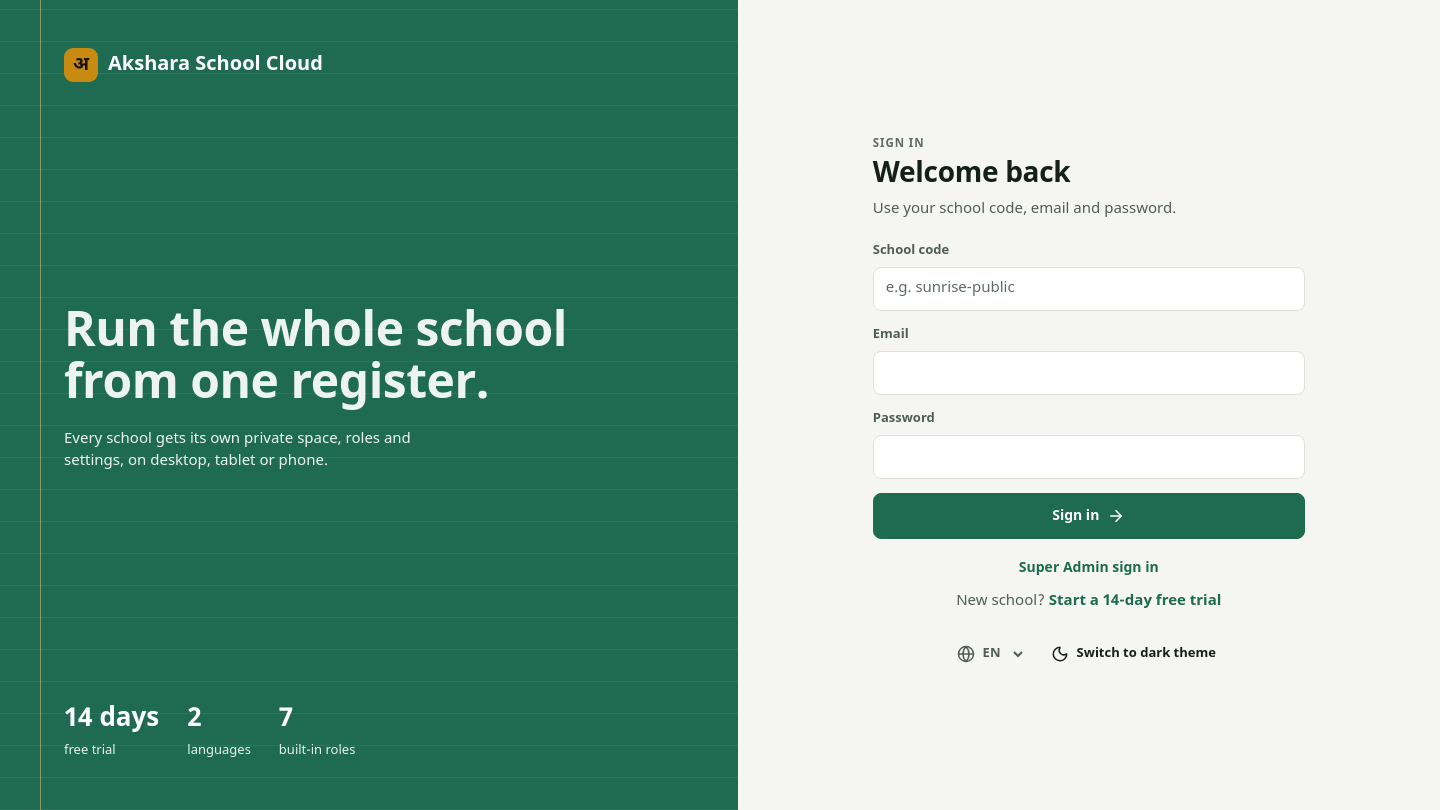
Test: LoginView › asks the user to wait on 429
The image size is (1440, 810).
Type "sunrise-public" into the field labelled "School code" at (1089, 289), box [873,267,1305,311]
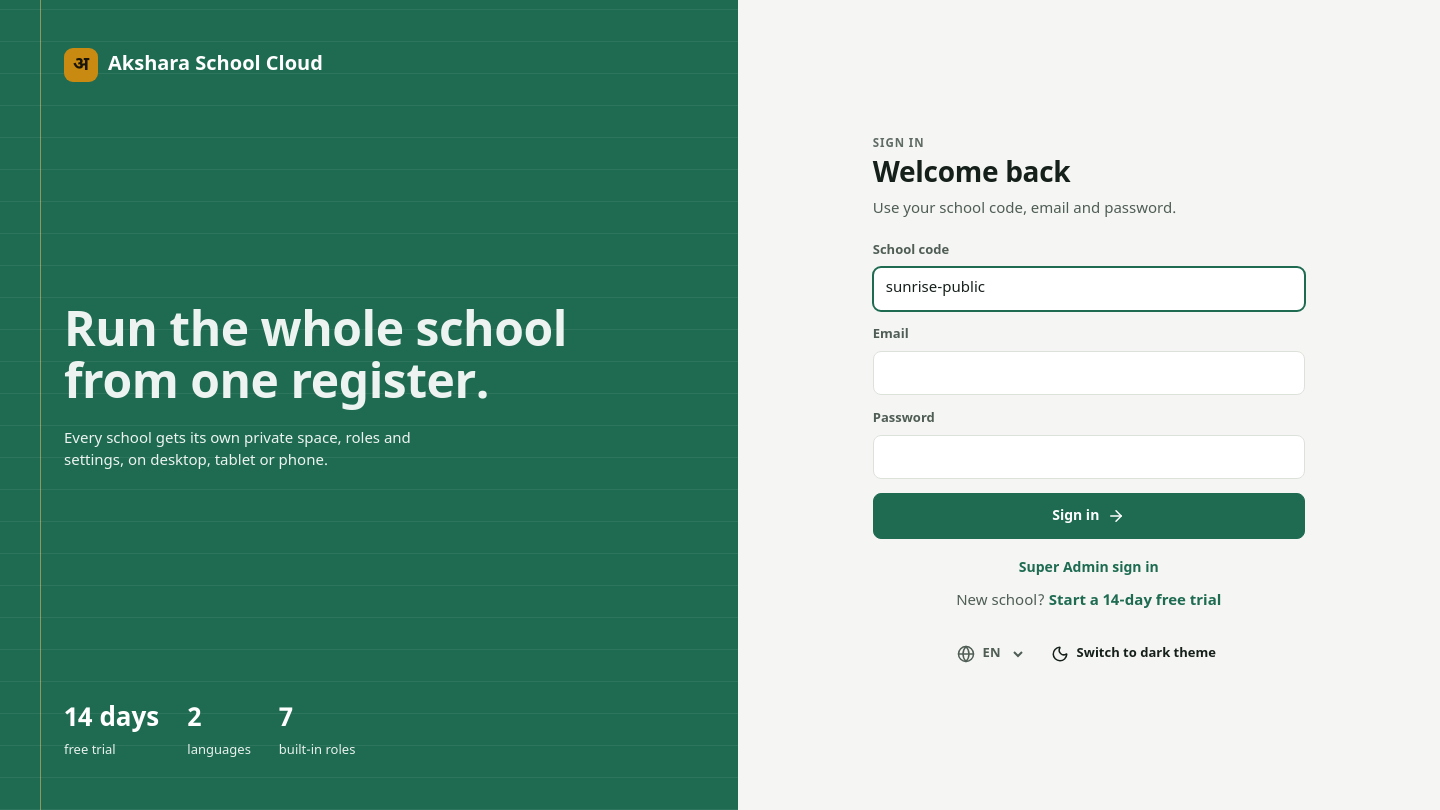
Type "fatima@school.edu" into the field labelled "Email" at (1089, 373), box [873,351,1305,395]
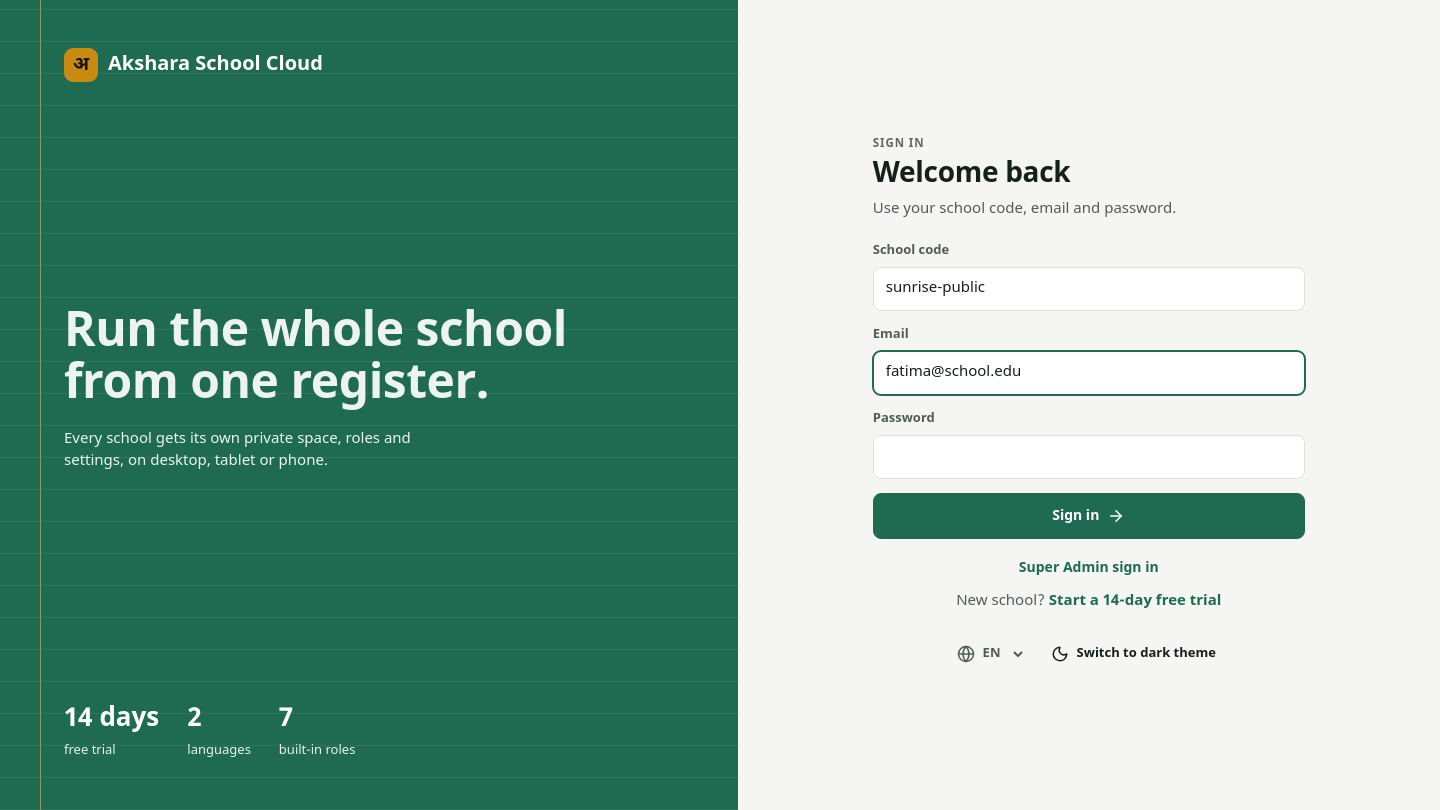
Type "wrong-password" into the password field labelled "Password" at (1089, 457), box [873,435,1305,479]
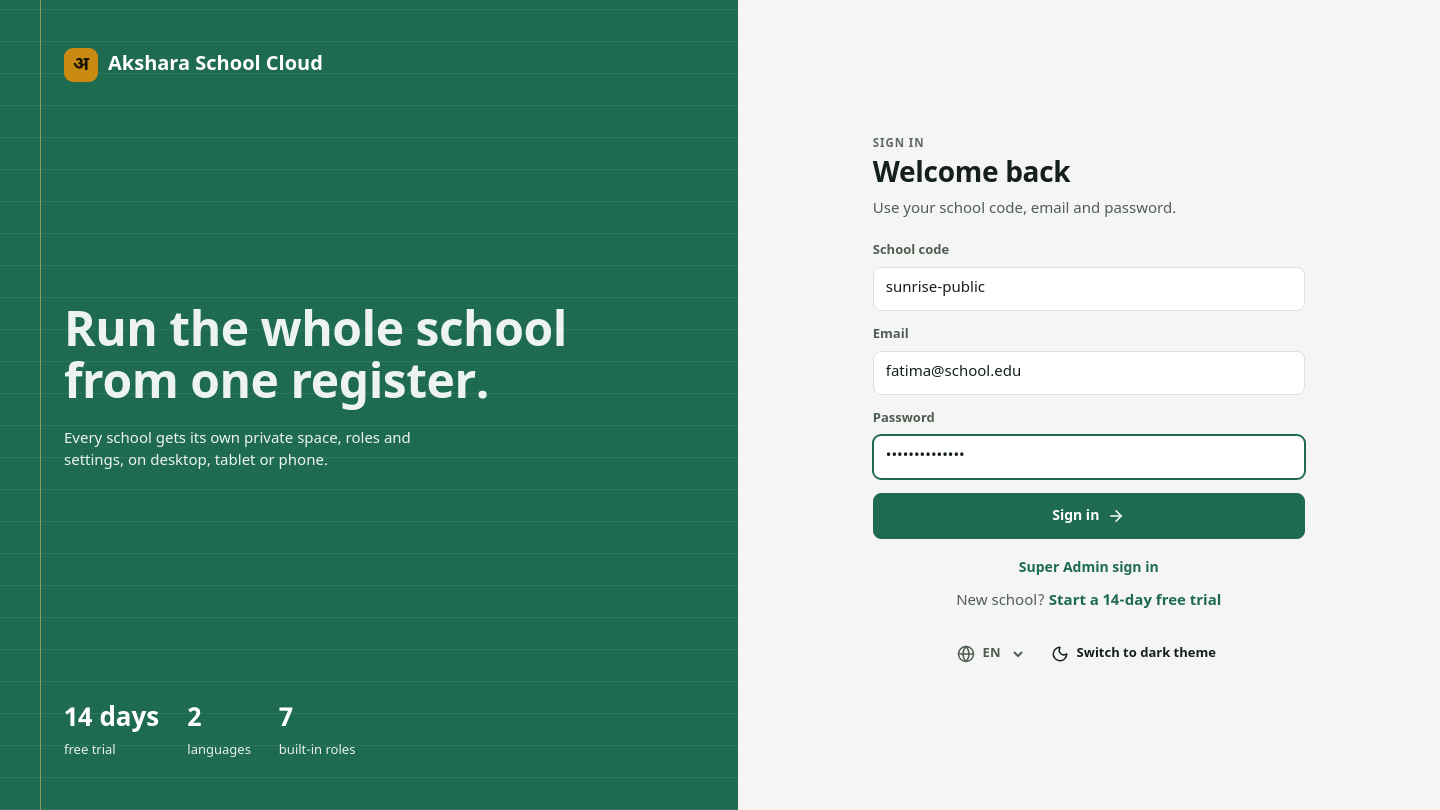
Click the button "Sign in" at (1089, 516), box [873,493,1305,539]
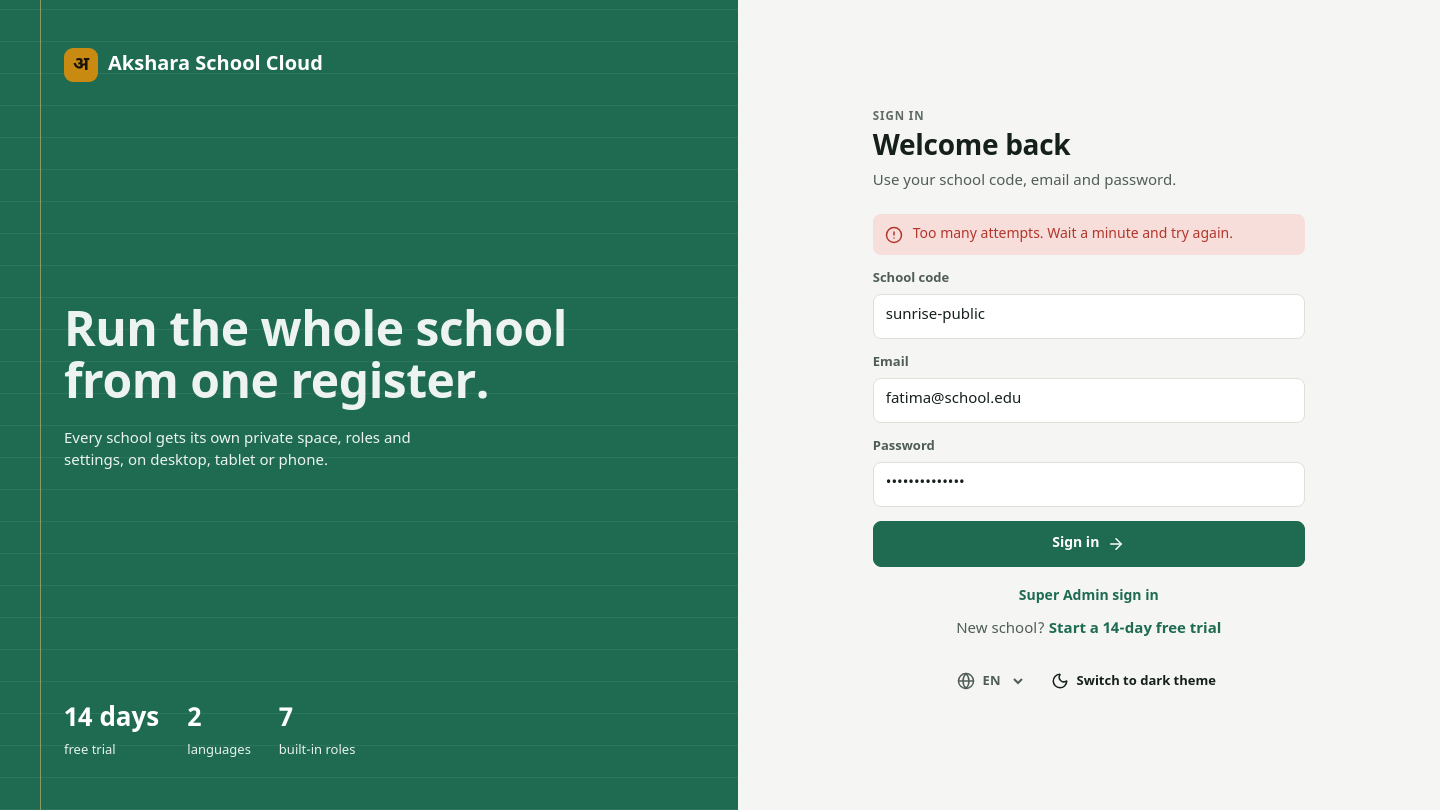
Check: the message reads "Too many attempts. Wait a minute and try again.", box [913,225,1233,244]
